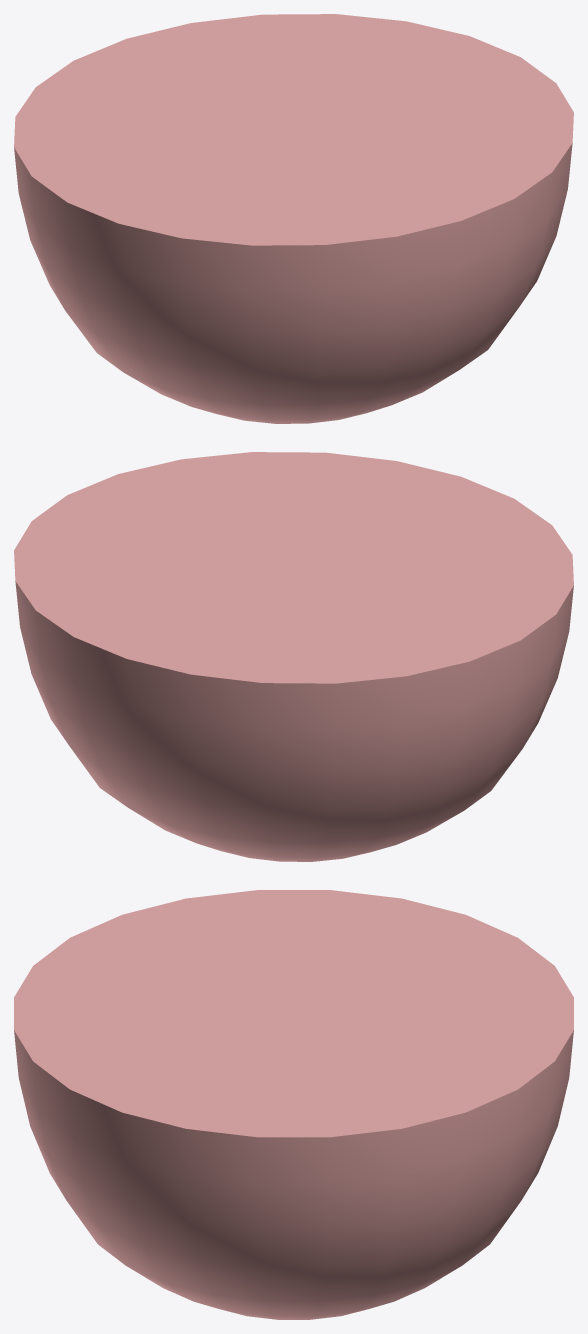
The model's file is Ojo_Abajo (1).fbx.
The picture shows the model from 3 angles, top to bottom: view 1: azimuth 30°, elevation 25°; view 2: azimuth 150°, elevation 25°; view 3: azimuth 270°, elevation 25°; orthographic projection. The views are drawn at different scales.
Parts seen in each view (by area): view 1: Watermelon_Half_Left; view 2: Watermelon_Half_Left; view 3: Watermelon_Half_Left.
Part boxes in pixels (x1,y1,x2,y2): Watermelon_Half_Left: [14, 14, 573, 423]; Watermelon_Half_Left: [14, 452, 573, 861]; Watermelon_Half_Left: [14, 890, 573, 1319].
Size of the model in its own units: 6.02 by 3.21 by 5.77.
